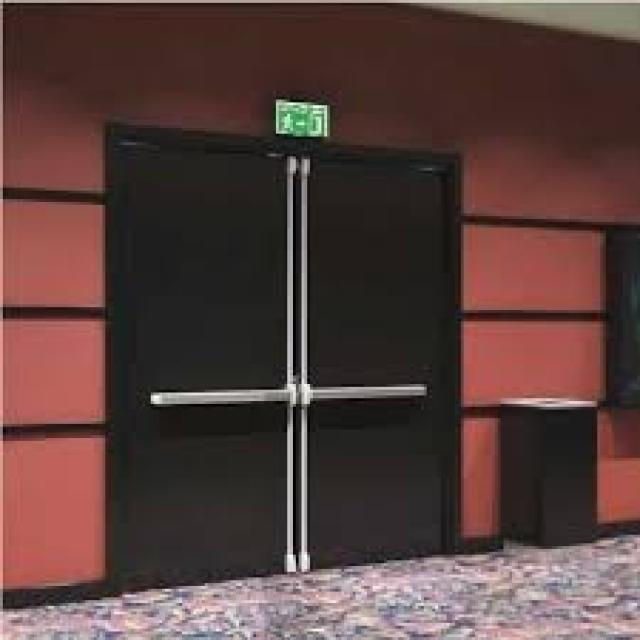door: (105, 124, 461, 594)
